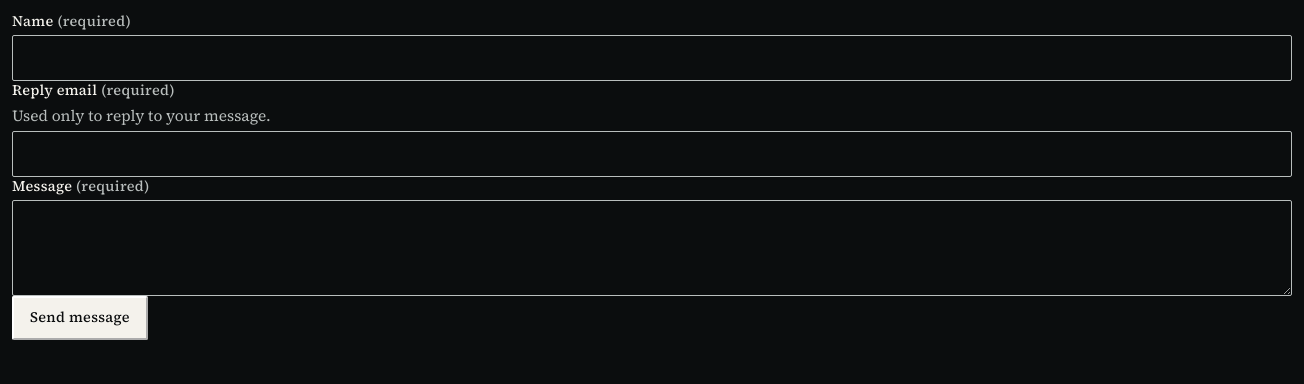
ContactForm (M6.1) › validates email format, not just presence
The image size is (1304, 384).
Type "Fixture Name" into the field labelled "Name (required)" at [652, 58], box 12,35 -> 1292,81
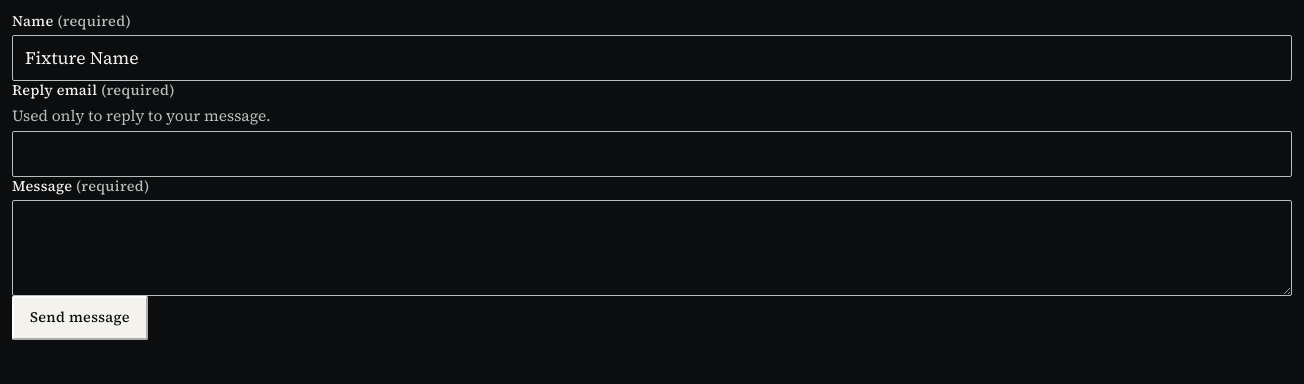
Type "not-an-email" into the field labelled "Reply email (required)" at [652, 154], box 12,131 -> 1292,177
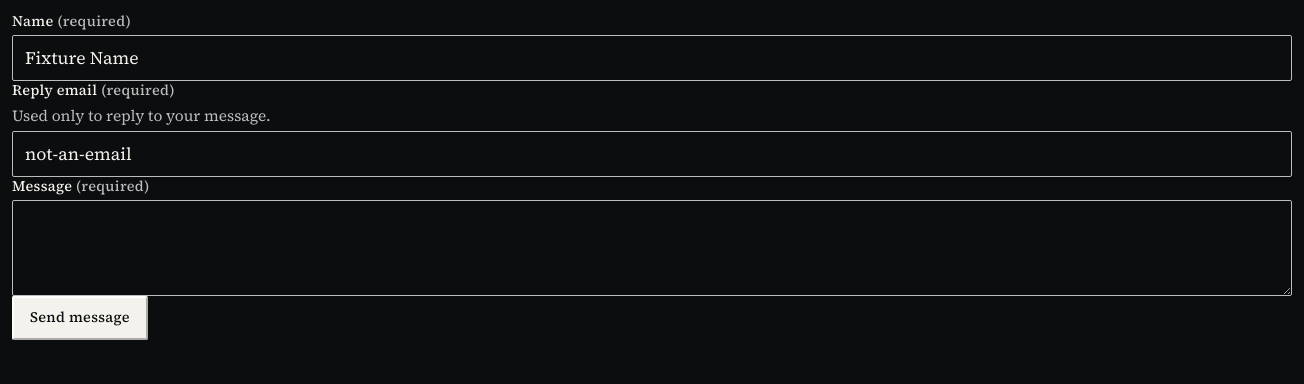
Type "Fixture message" into the text box labelled "Message (required)" at [652, 248], box 12,200 -> 1292,296
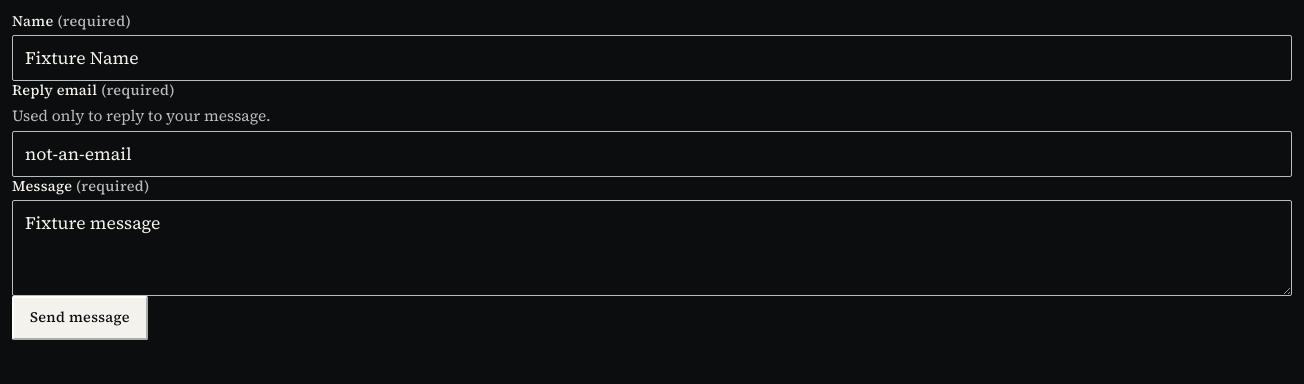
Click the button "Send message" at [80, 318], box 12,296 -> 148,340
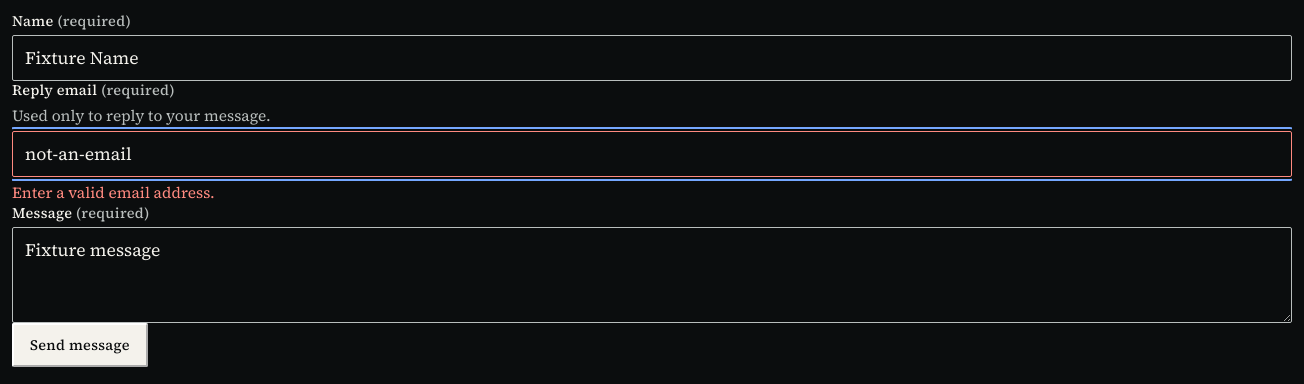
expect the text "Enter a valid email address." is shown: met, box 12,182 -> 215,203
